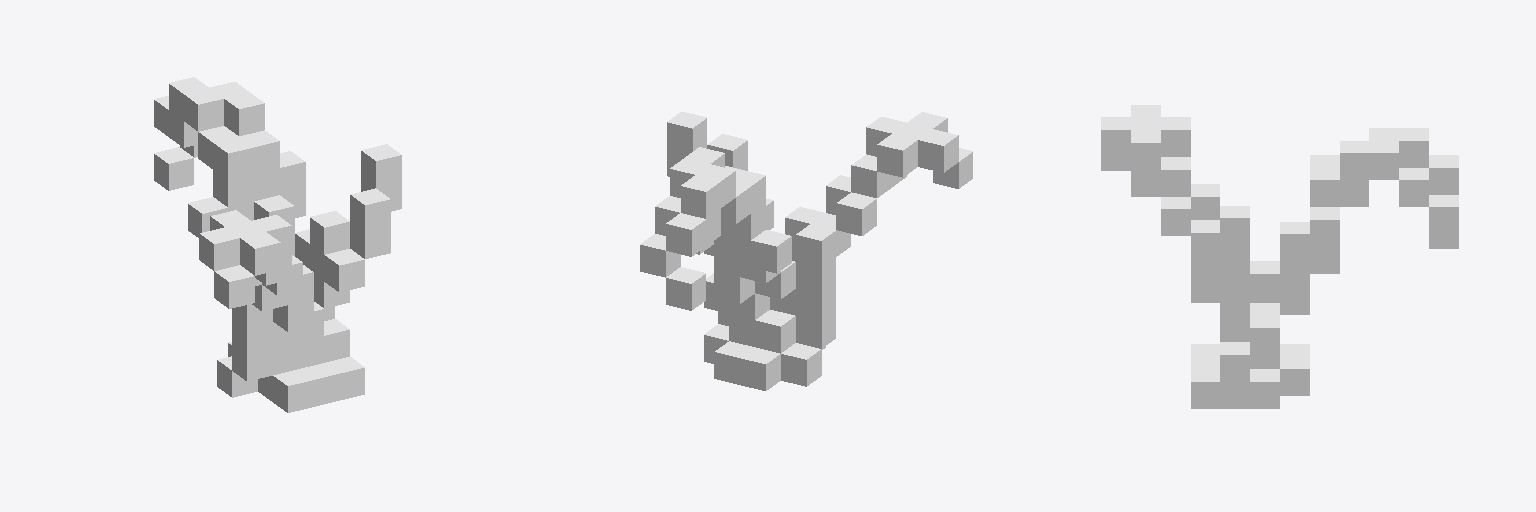
Rendered from bush_2.obj.
3 renders of one model, left to right at view 1: azimuth 30°, elevation 25°; view 2: azimuth 150°, elevation 25°; view 3: azimuth 270°, elevation 25°, orthographic.
Parts seen in each view (by area): view 1: object 1; view 2: object 1; view 3: object 1.
Part boxes in pixels (x1,y1,x2,y2): object 1: (154,77,401,412); object 1: (640,112,972,390); object 1: (1101,105,1458,408).
Size of the model in its own units: 0.9 by 0.9 by 1.2.